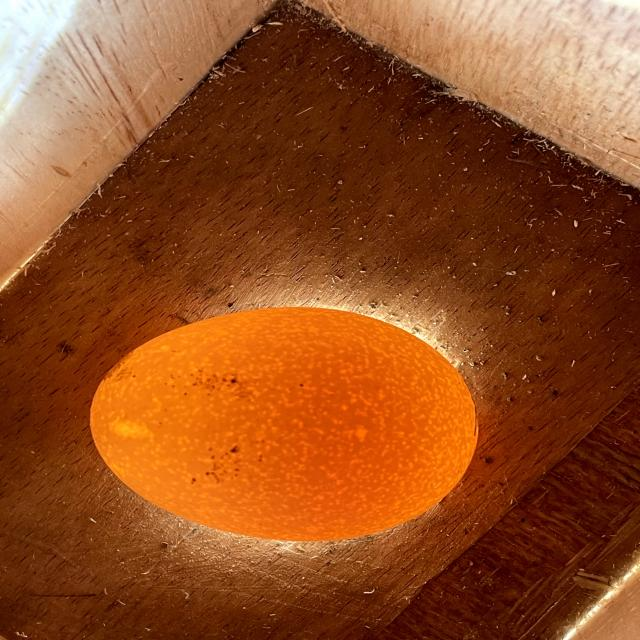infertile: (90, 308, 478, 541)
